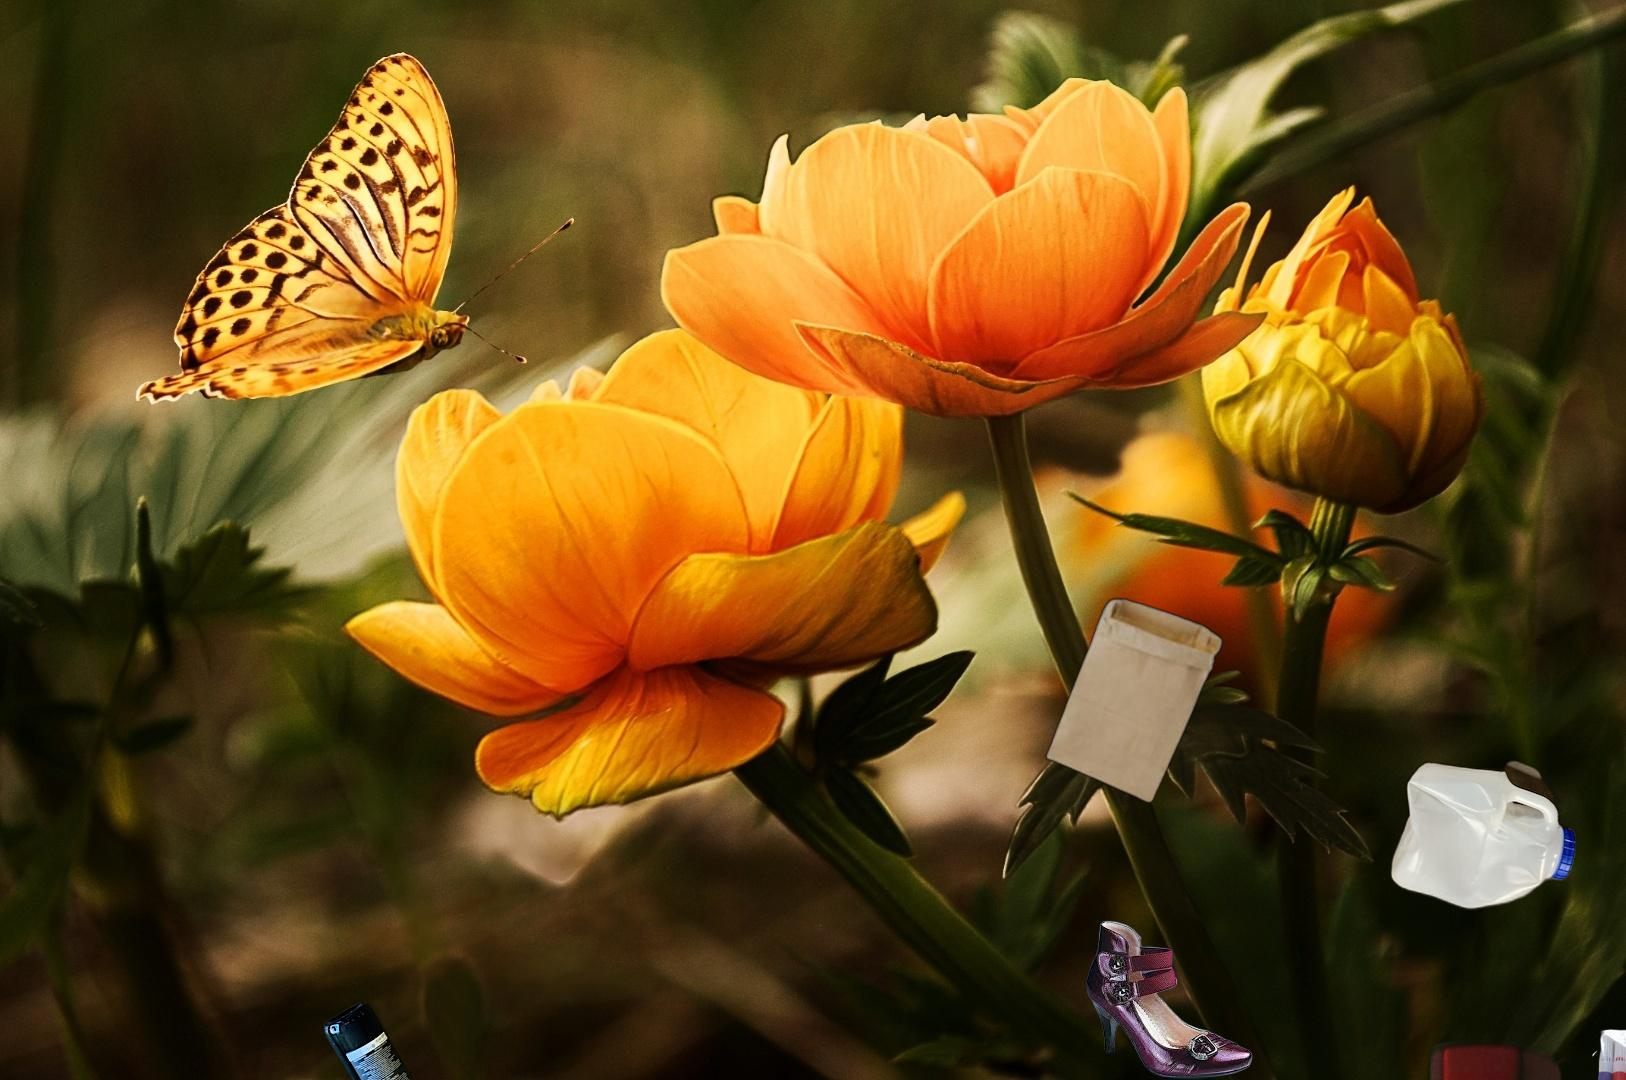glass: (319, 996, 462, 1080)
paper-bag: (1043, 595, 1226, 806)
penholder: (1363, 1023, 1626, 1080), (1580, 1025, 1626, 1080)
plastic-bottles: (1386, 755, 1581, 915)
shoes: (1084, 917, 1254, 1080)
